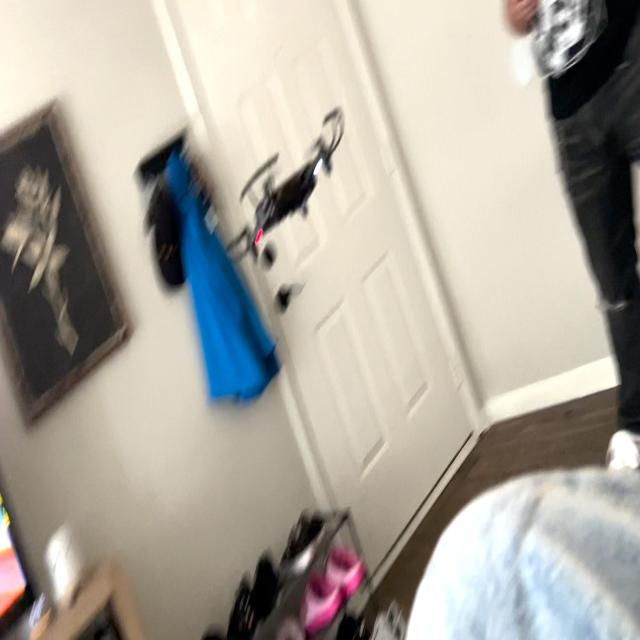drone: (210, 95, 352, 292)
